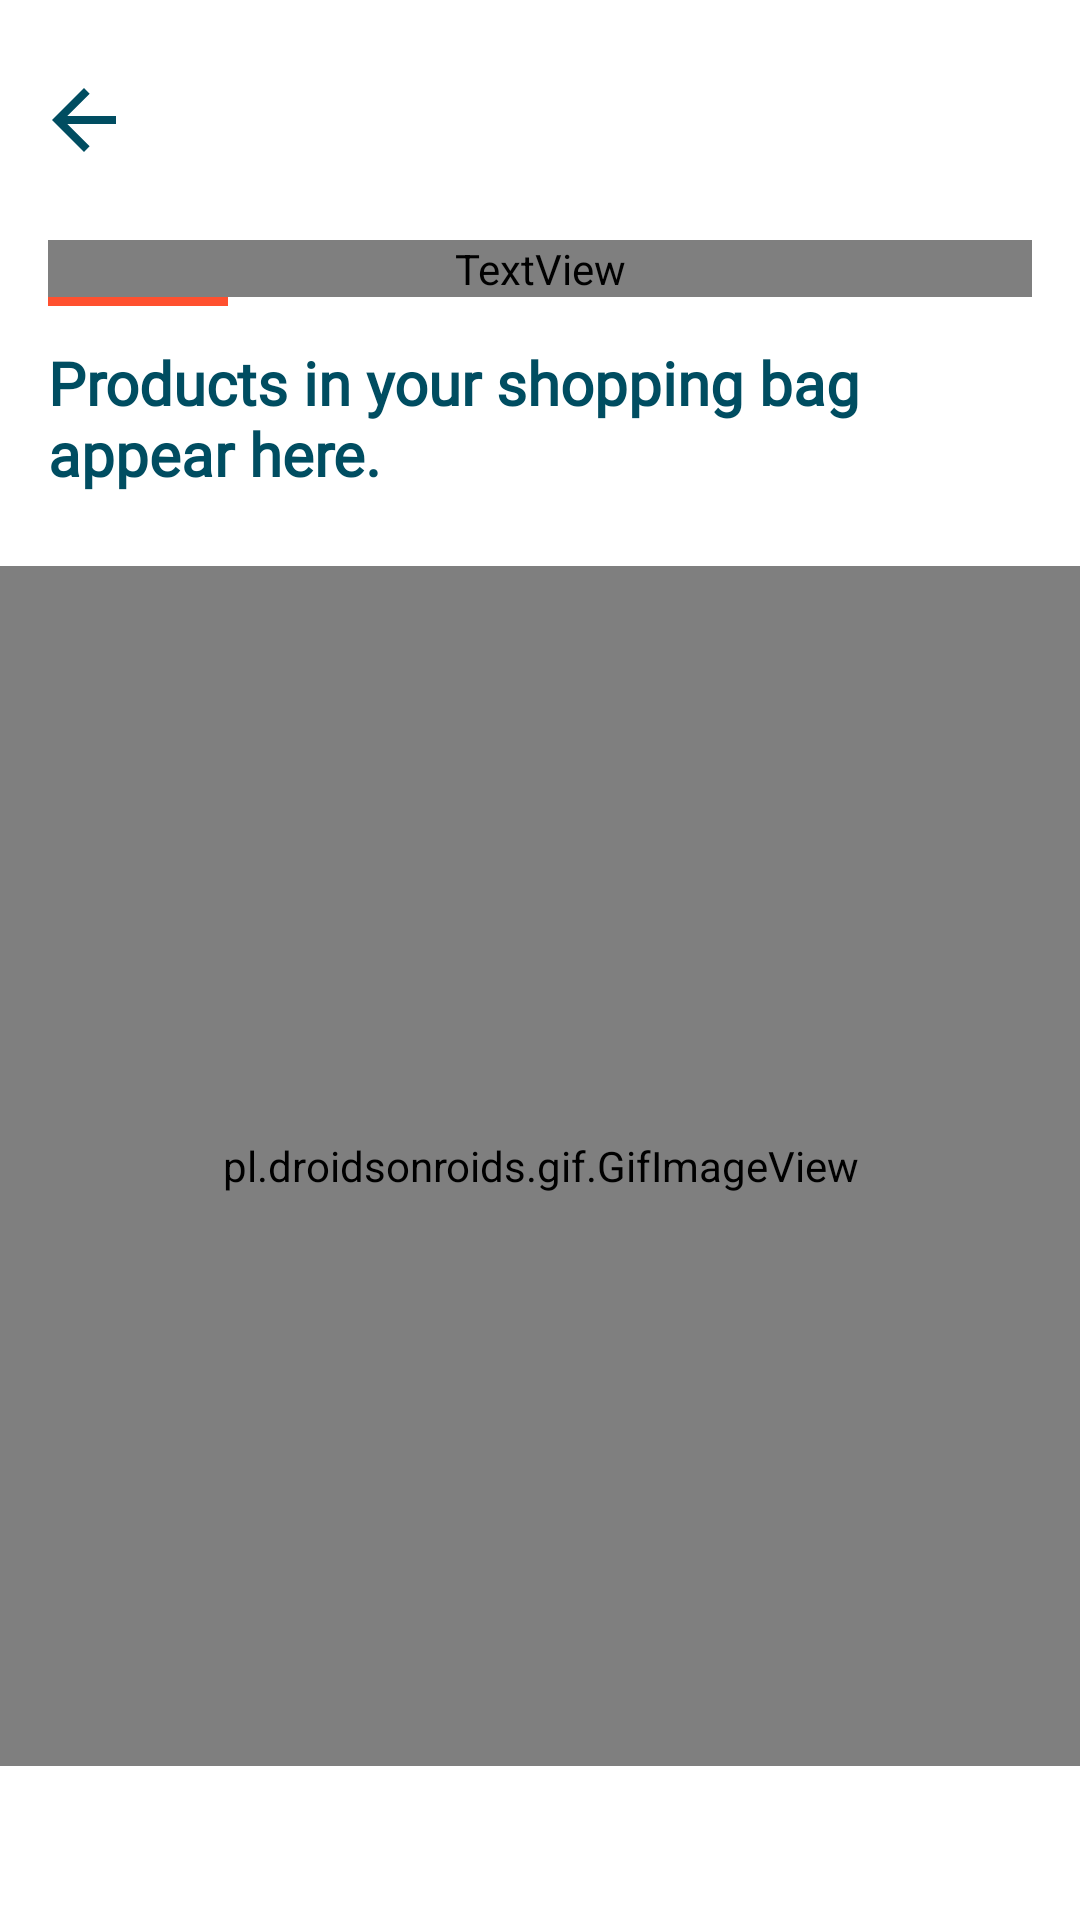

Point at icon controls on the screen. Image size 1080 × 1920, points as point (x, y).
arrow back: point (84, 120)
